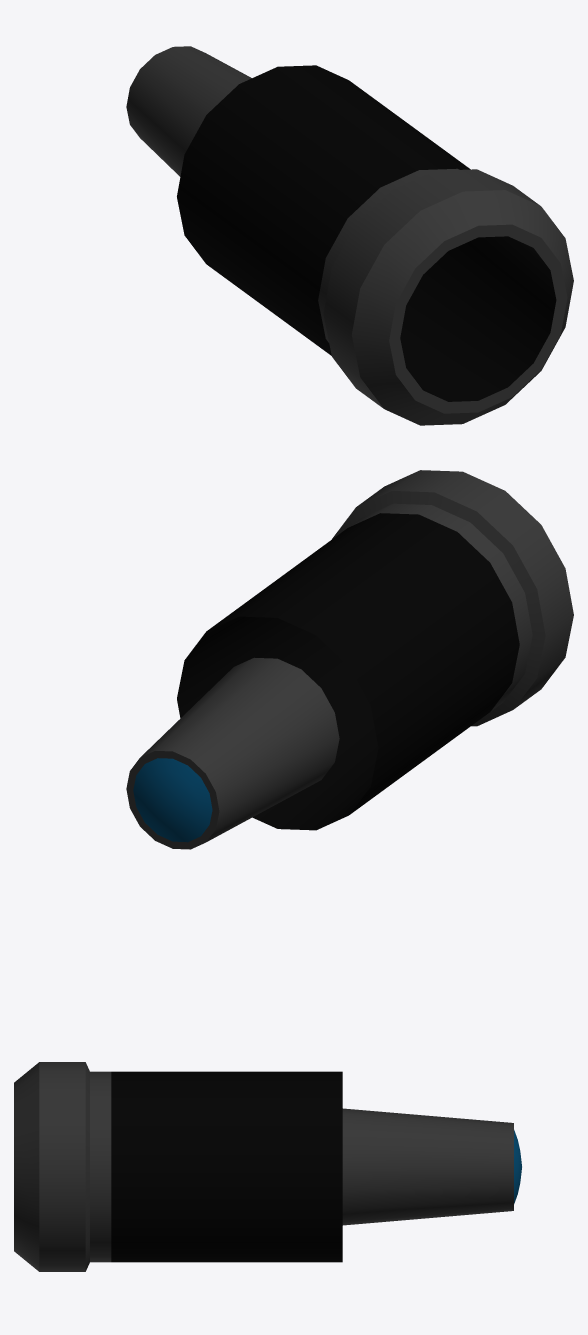
The model's file is TankSight_wedge_1x1.fbx.
The picture shows the model from 3 angles, top to bottom: view 1: azimuth 30°, elevation 25°; view 2: azimuth 150°, elevation 25°; view 3: azimuth 270°, elevation 25°; orthographic projection. The views are drawn at different scales.
Visible parts, largest first — view 1: Cube; view 2: Cube; view 3: Cube.
Boxes of the visible parts, <box> form: Cube: <box>126,46,573,425</box>; Cube: <box>126,470,573,849</box>; Cube: <box>14,1062,521,1271</box>.
Size of the model in its own units: 1 by 1 by 2.42.
